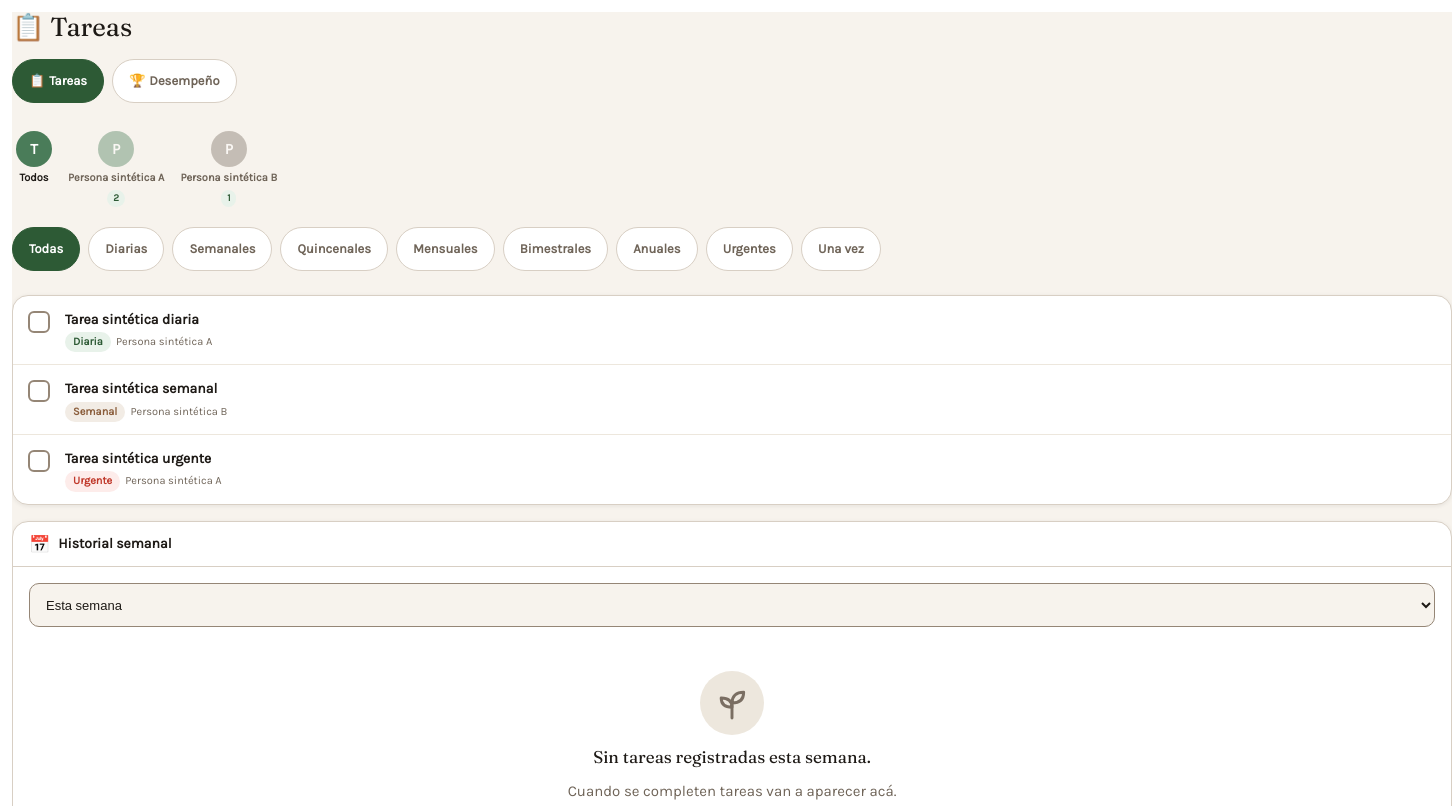
it: TasksScreen — completar › EMPLOYEE completa sin elegir ejecutor: nunca envía otro empleado
expect the list named "Tareas del período" is shown: met, box [13, 296, 1451, 504]
Click the button named "Marcar como completada: Tarea sintética diaria".
click(39, 322)  # box [17, 300, 61, 344]
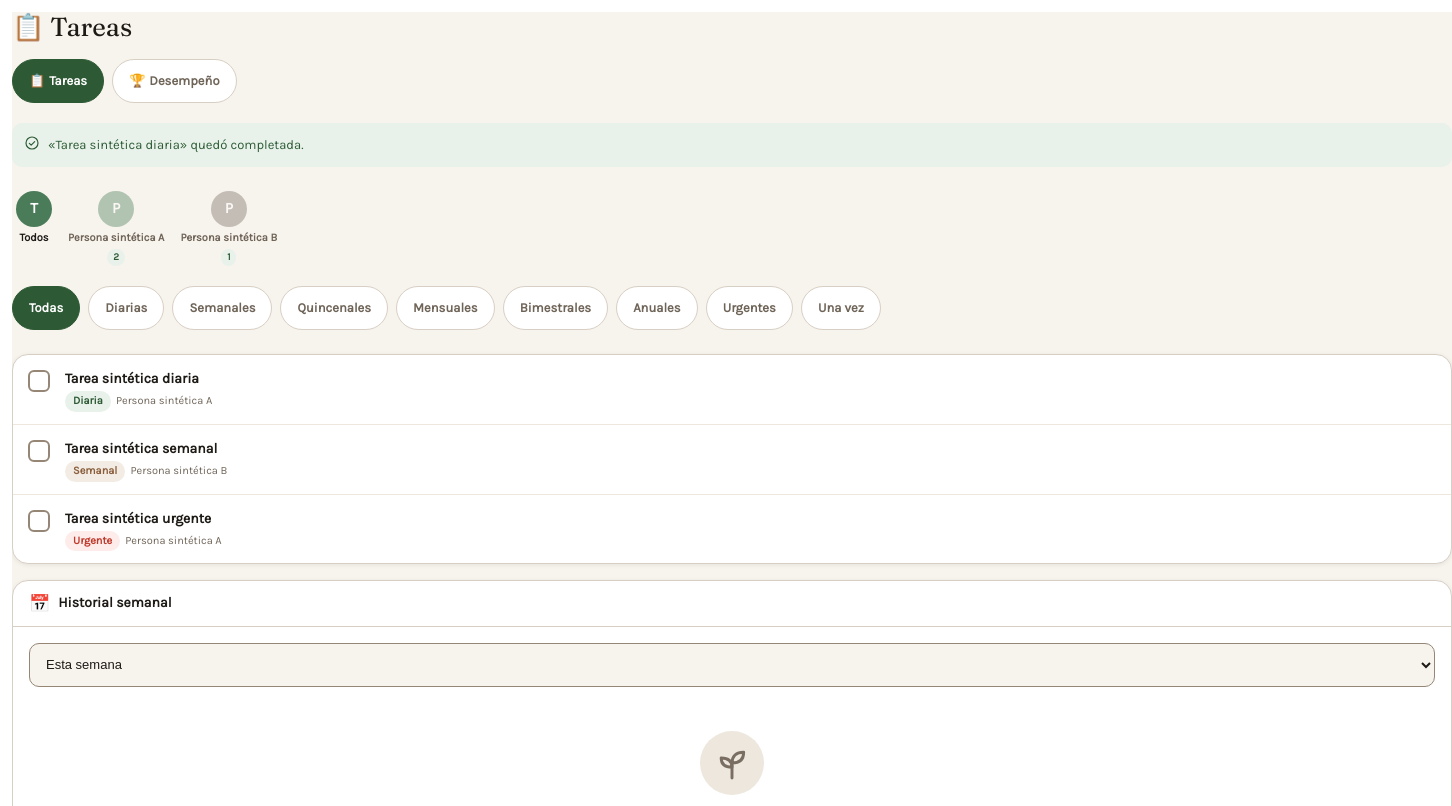
expect the text "«Tarea sintética diaria» quedó completada." is shown: met, box [12, 123, 1451, 167]
